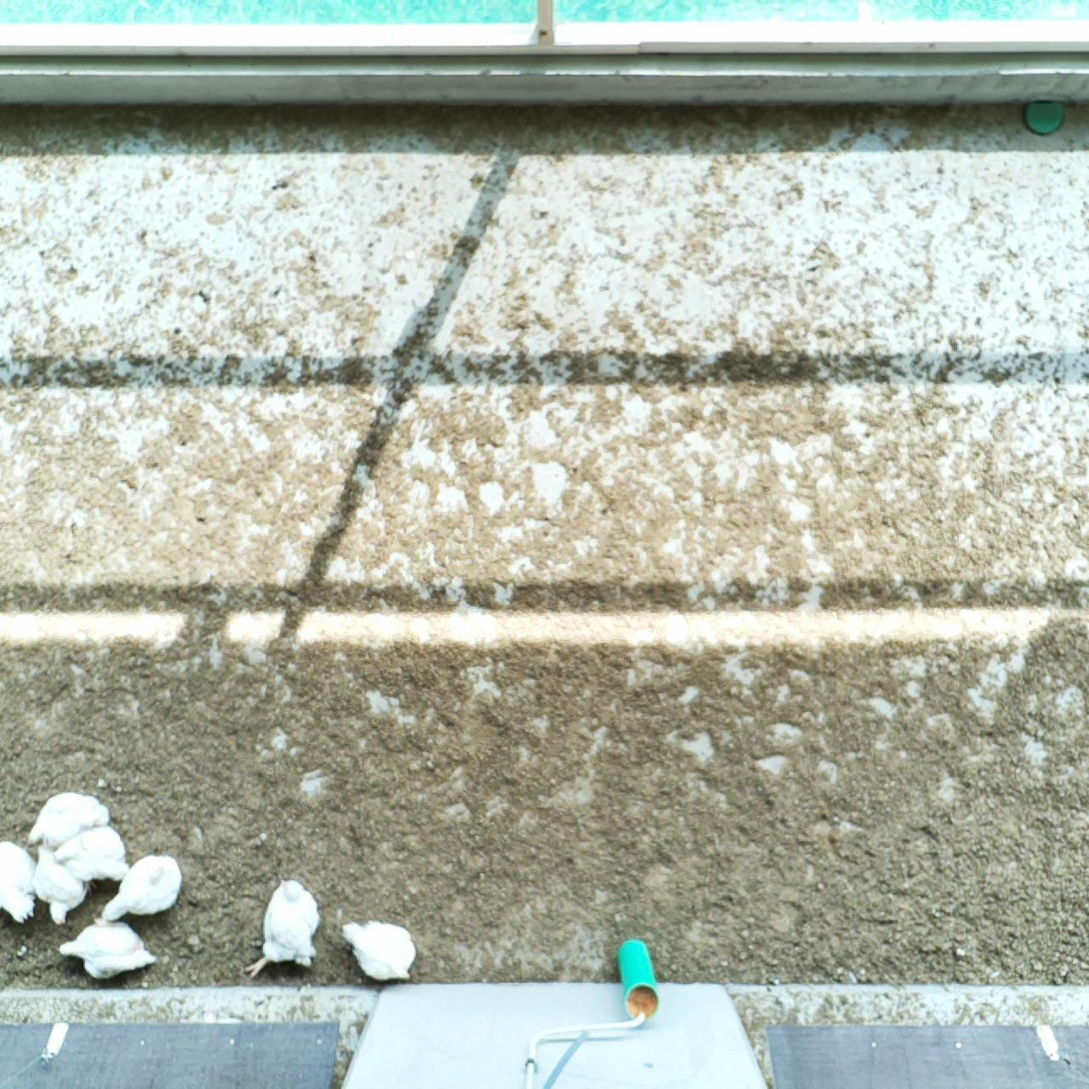chicken: (245, 879, 324, 979), (54, 919, 160, 982), (102, 851, 189, 923), (25, 787, 115, 850), (22, 841, 86, 928), (337, 920, 420, 979), (57, 824, 131, 890), (0, 834, 39, 928)
